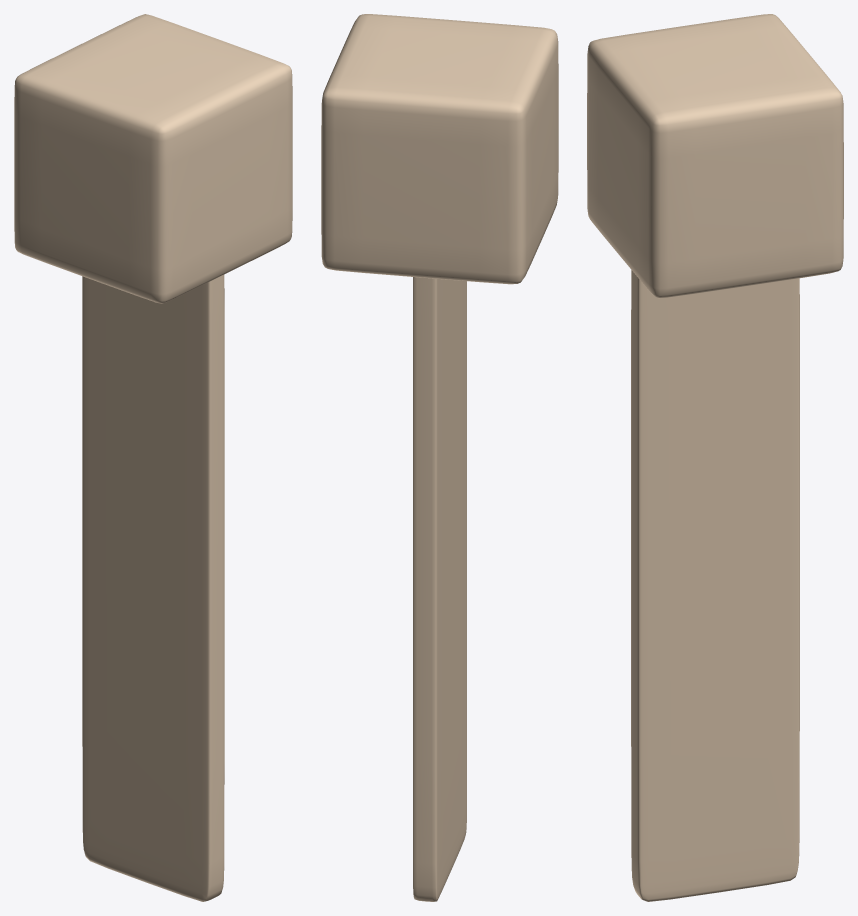
Rendered from PROP_PicnicTable_v2.glb.
3 renders of one model, left to right at view 1: azimuth 30°, elevation 25°; view 2: azimuth 150°, elevation 25°; view 3: azimuth 270°, elevation 25°, orthographic.
Visible parts, largest first — view 1: PROP_PicnicTable_v2; view 2: PROP_PicnicTable_v2; view 3: PROP_PicnicTable_v2.
Part boxes in pixels (x1=…): PROP_PicnicTable_v2: x1=14, y1=14, x2=292, y2=901; PROP_PicnicTable_v2: x1=321, y1=14, x2=558, y2=901; PROP_PicnicTable_v2: x1=587, y1=14, x2=843, y2=901.
Size of the model in its own units: 1.21 by 4.25 by 1.2.
